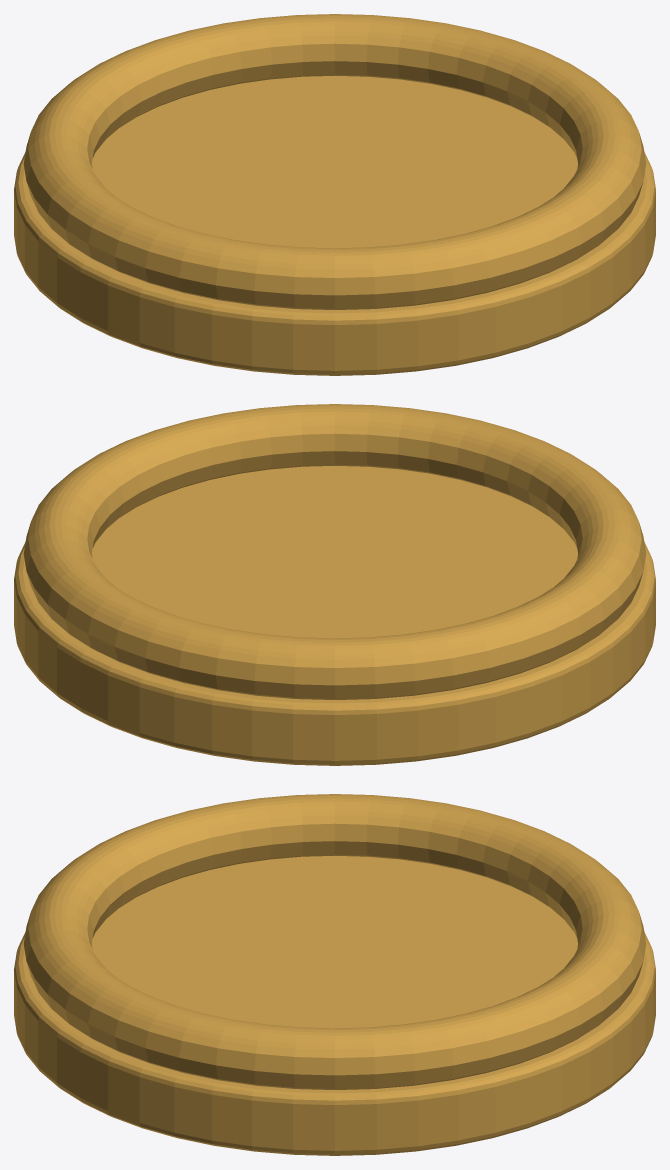
Rendered from Plate.obj.
3 renders of one model, top to bottom at view 1: azimuth 30°, elevation 25°; view 2: azimuth 150°, elevation 25°; view 3: azimuth 270°, elevation 25°, orthographic.
Parts seen in each view (by area): view 1: Plate; view 2: Plate; view 3: Plate.
Boxes of the visible parts, left/top/right/bottom form: Plate: left=14, top=14, right=655, bottom=375; Plate: left=14, top=404, right=655, bottom=765; Plate: left=14, top=794, right=655, bottom=1155.
Bounding box in the file's own units: 0.66 × 0.1235 × 0.66.
